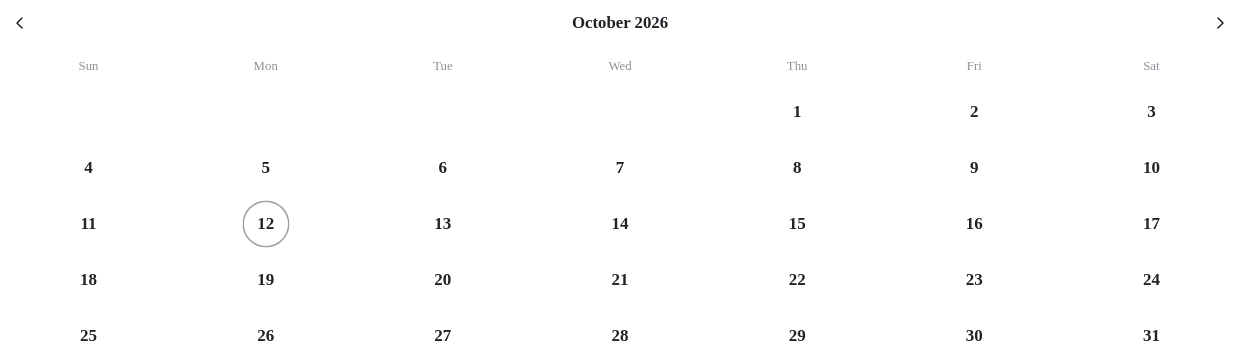
Test: tooltip › today has an explanatory tooltip
Hover over the button "12".
mouse_move(266, 224)  # box [177,196,354,252]
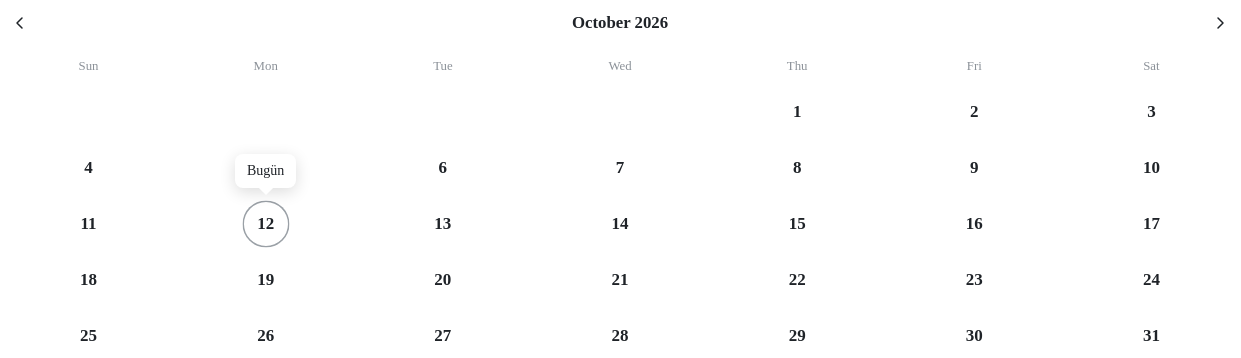
Now the tooltip reads "Bugün", box [247,163,284,178]
